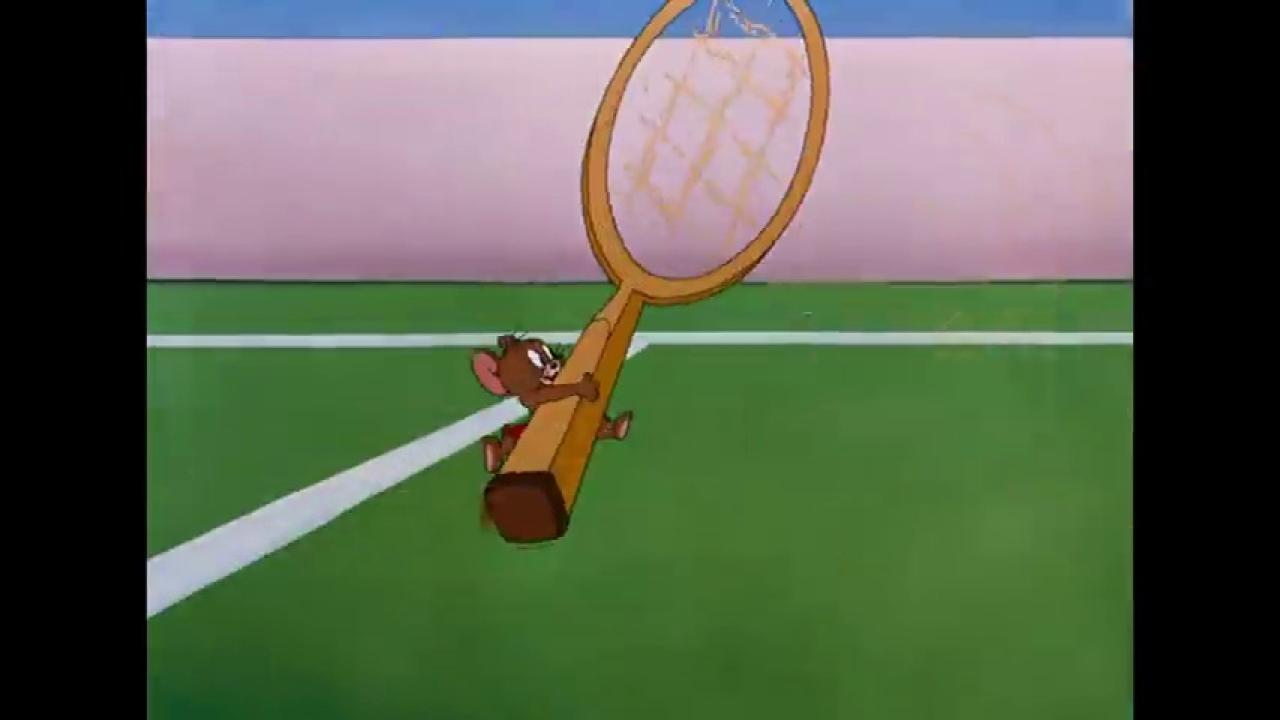Jerry: (468, 329, 634, 475)
